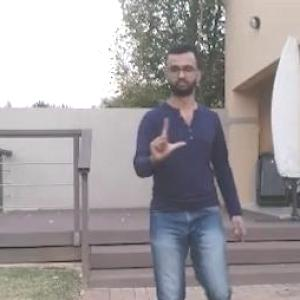land_hand: (140, 105, 192, 167)
